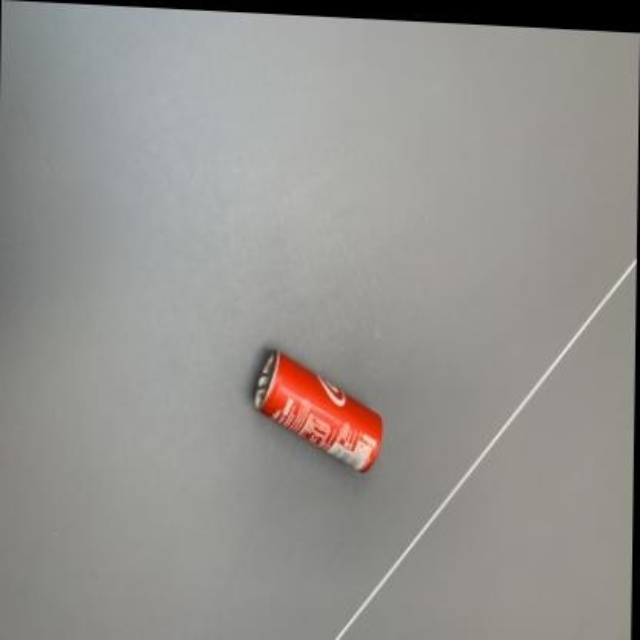trash: (254, 351, 380, 471)
